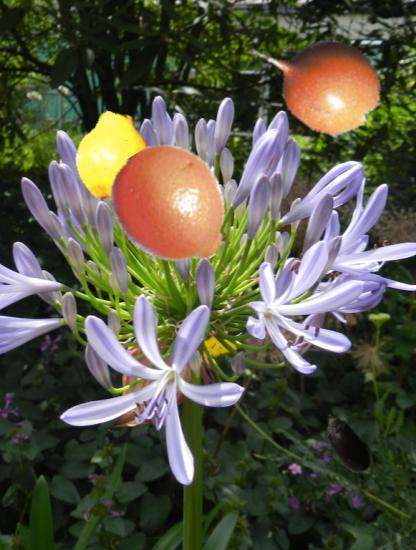Eggplant: (311, 409, 381, 479)
Granadilla: (248, 5, 388, 145)
Quince: (67, 110, 159, 202)
Tangelo: (107, 144, 235, 272)
